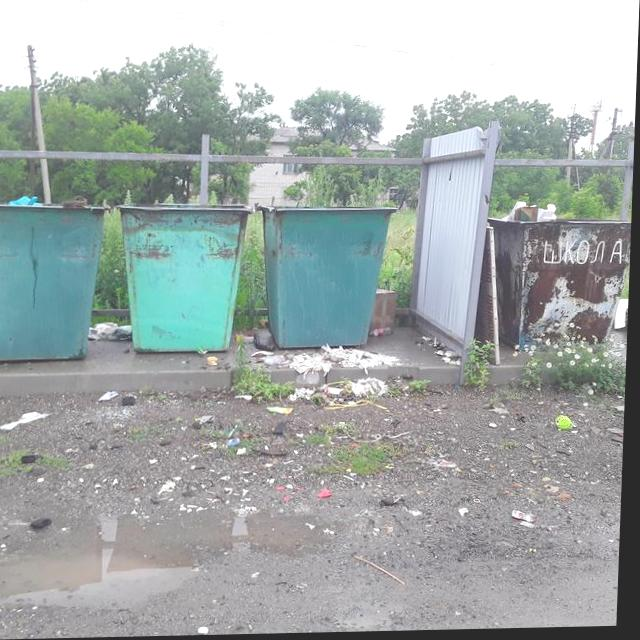Trash_Can_Empty: (123, 206, 251, 353), (265, 209, 395, 350), (0, 205, 105, 360)
Trash_Can_Full: (494, 203, 632, 350)
